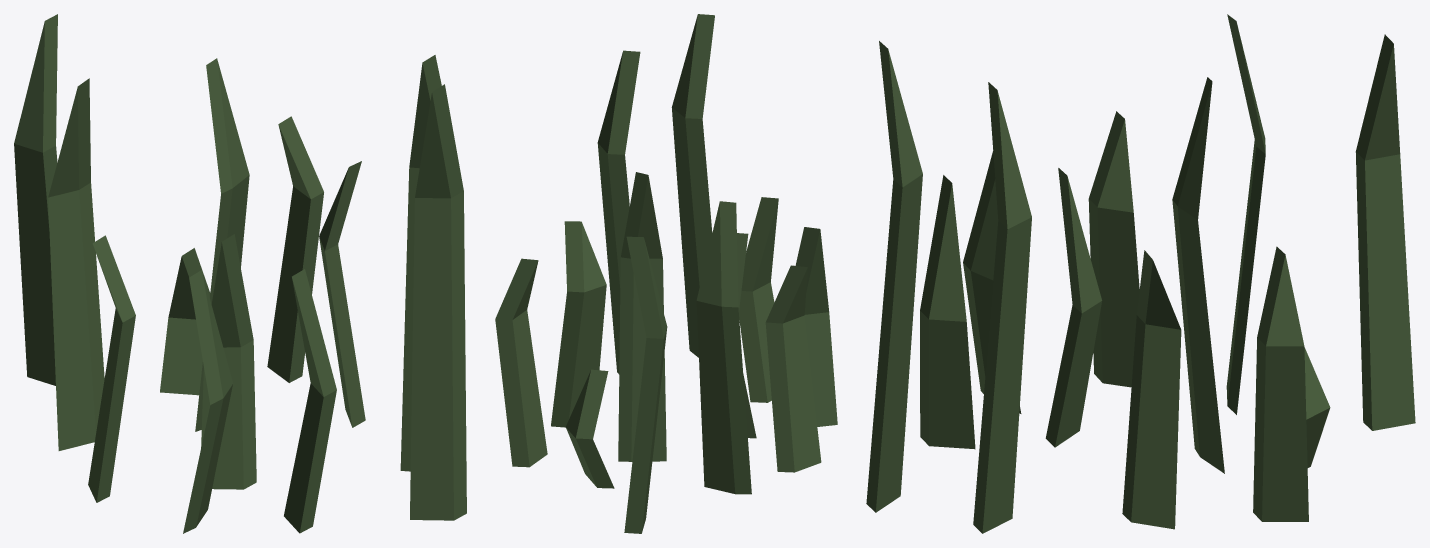
Rendered from Grass_Short.gltf.
3 views of the same model, side by side, from view 1: azimuth 30°, elevation 25°; view 2: azimuth 150°, elevation 25°; view 3: azimuth 270°, elevation 25° (orthographic). The views are drawn at different scales.
Visible parts, largest first — view 1: Grass_Short; view 2: Grass_Short; view 3: Grass_Short.
Part boxes in pixels (left/top/right/bottom): Grass_Short: left=14, top=14, right=466, bottom=533; Grass_Short: left=495, top=14, right=837, bottom=533; Grass_Short: left=866, top=14, right=1415, bottom=533.
Bounding box in the file's own units: 0.3162 × 0.4046 × 0.4417.
